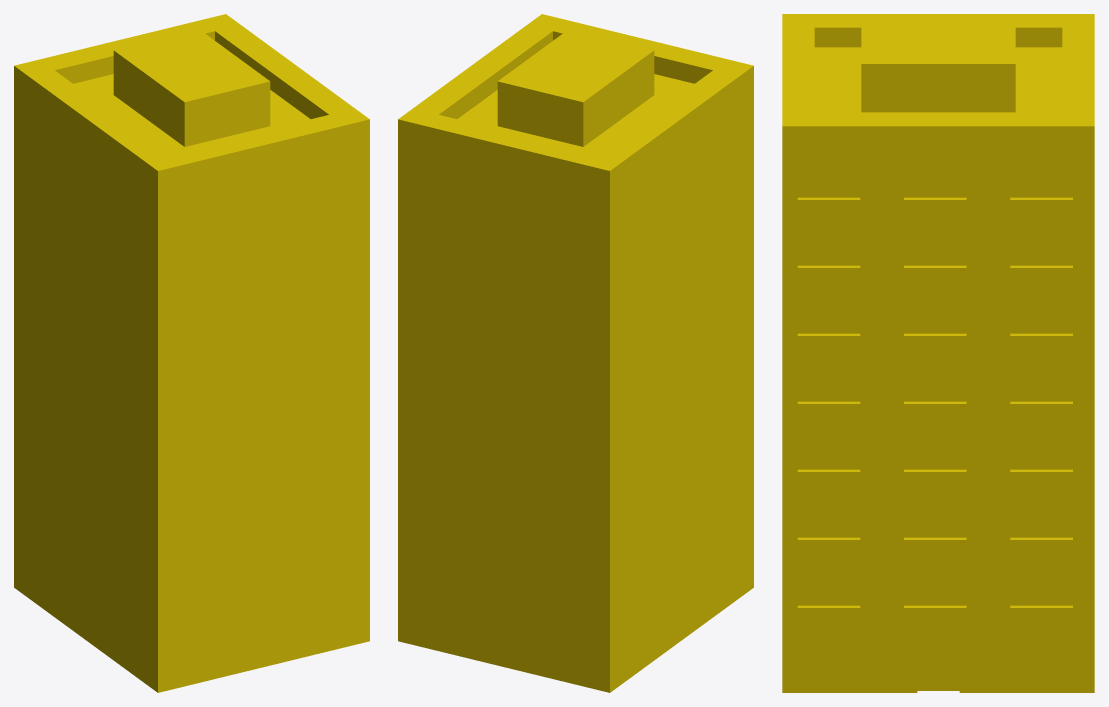
File: FlatGebouw.fbx
3 renders of one model, left to right at view 1: azimuth 30°, elevation 25°; view 2: azimuth 150°, elevation 25°; view 3: azimuth 270°, elevation 25°, orthographic. The views are drawn at different scales.
Visible parts, largest first — view 1: Cube.001; view 2: Cube.001; view 3: Cube.001.
Part boxes in pixels (<box>): Cube.001: <box>14,14,369,692</box>; Cube.001: <box>398,14,753,692</box>; Cube.001: <box>782,14,1094,692</box>.
Bounding box in the file's own units: 1700 × 4205 × 2000.
